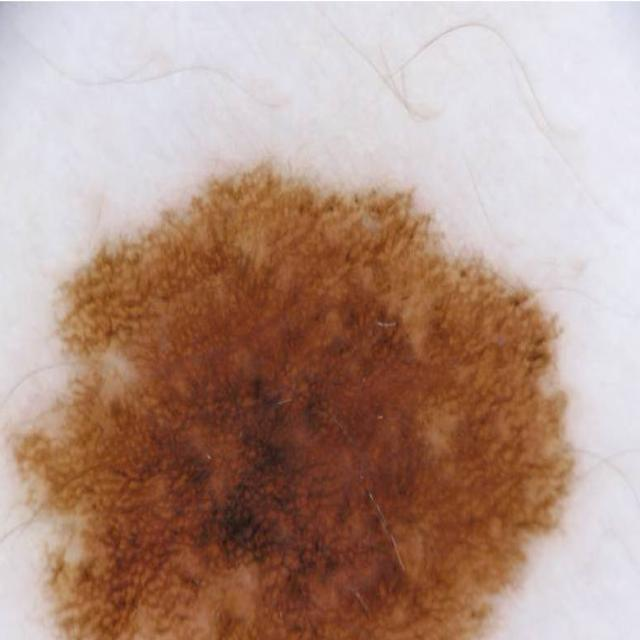Melanoma: (0, 130, 640, 640)
